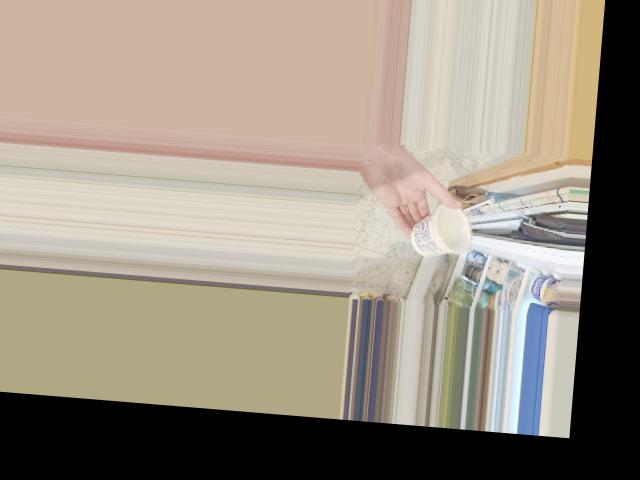cotage: (406, 204, 473, 255)
